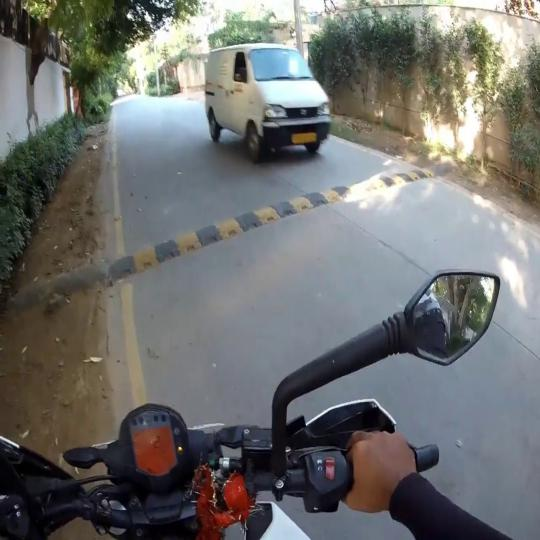Speed Bump: (107, 171, 382, 281), (382, 160, 436, 190)
